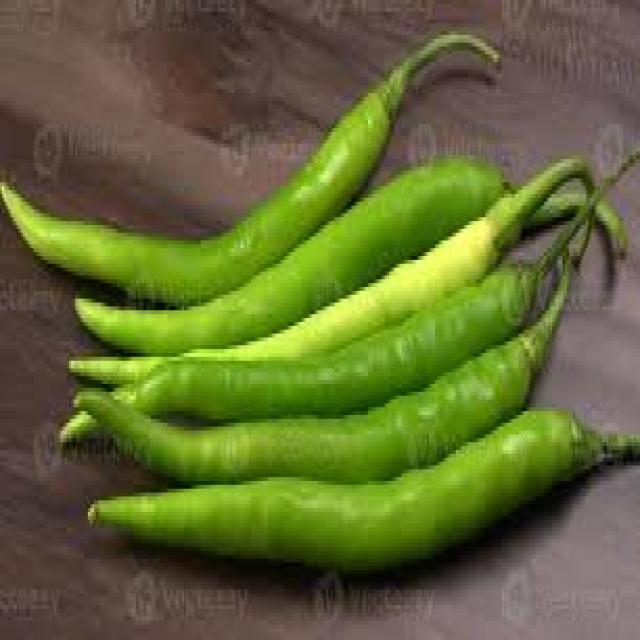green chilli: (113, 152, 639, 426), (0, 31, 502, 304), (88, 411, 640, 572), (140, 297, 567, 485)
